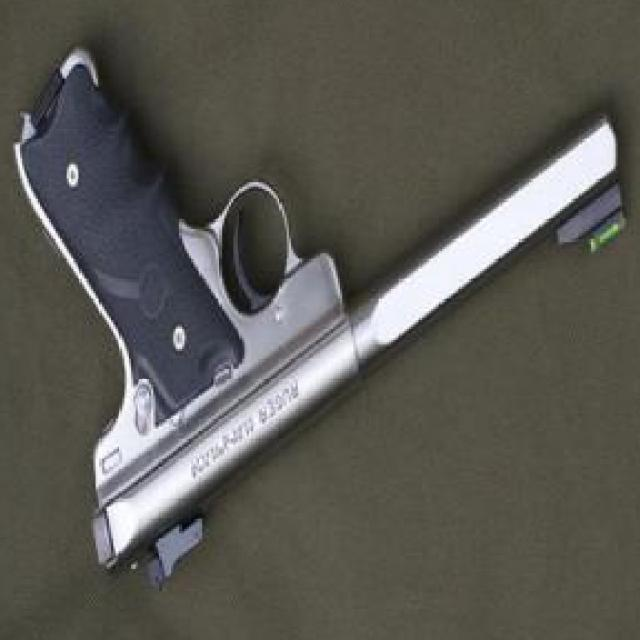pistol: (16, 44, 626, 589)
